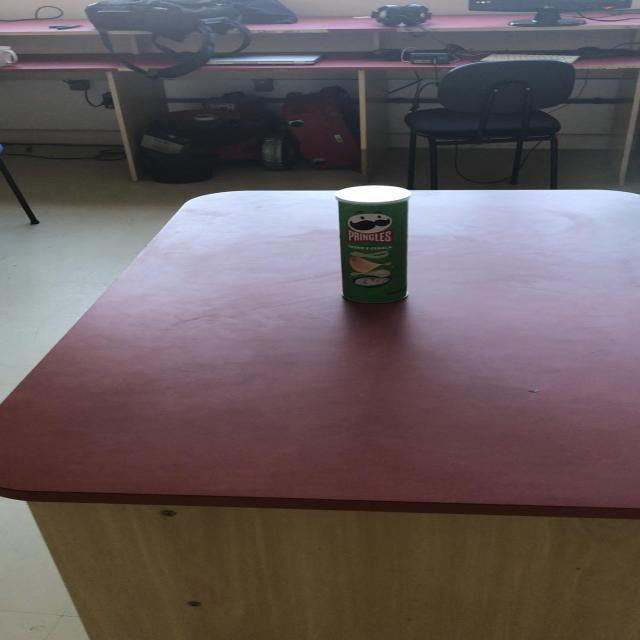a pringles: (332, 184, 411, 304)
